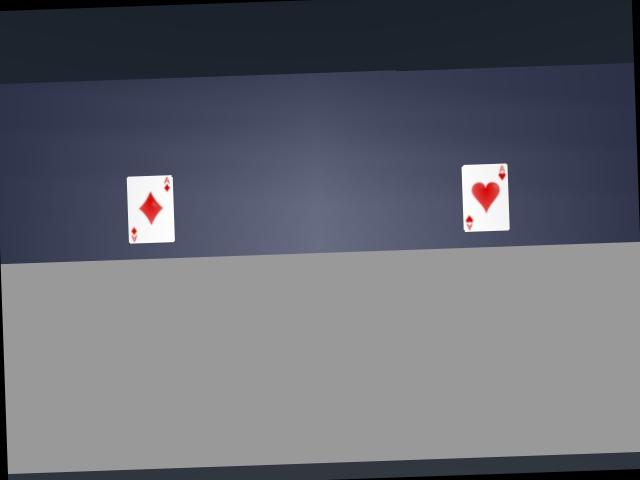diamond: (127, 175, 174, 243)
heart: (462, 164, 509, 231)
